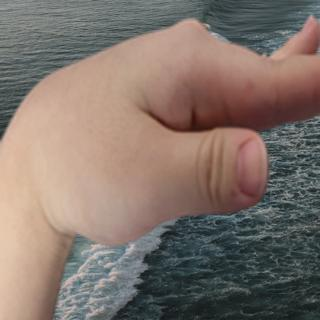Wait: (13, 17, 320, 244)
